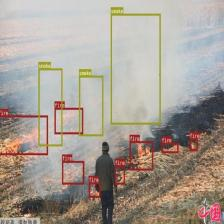fire: (0, 115, 47, 155), (54, 108, 83, 134), (129, 141, 153, 170), (62, 161, 84, 184), (114, 165, 125, 184), (88, 182, 100, 197), (162, 142, 178, 153), (189, 138, 198, 151)
smoke: (111, 13, 160, 124), (38, 68, 62, 146), (79, 76, 103, 136)
